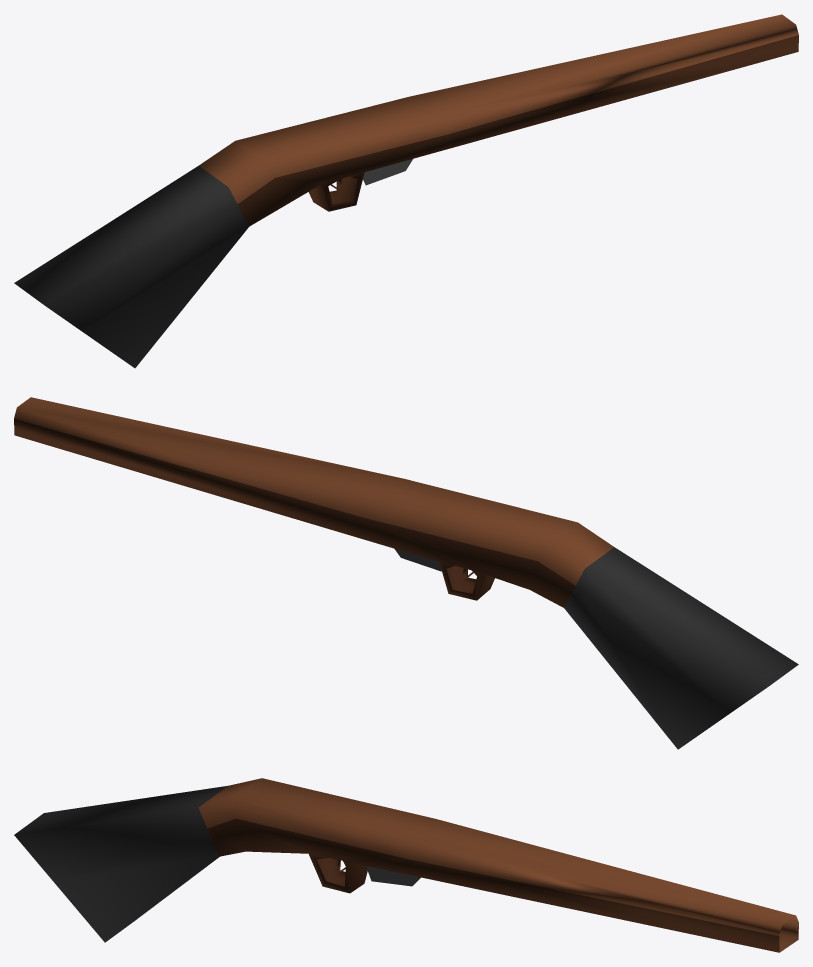
The model's file is Gun.fbx.
The picture shows the model from 3 angles, top to bottom: view 1: azimuth 30°, elevation 25°; view 2: azimuth 150°, elevation 25°; view 3: azimuth 330°, elevation 25°; orthographic projection.
Parts seen in each view (by area): view 1: Cube; view 2: Cube; view 3: Cube.
Boxes of the visible parts, x1,y1,x2,y2 form: Cube: (14,14,798,368); Cube: (14,397,798,749); Cube: (14,778,798,952).
Size of the model in its own units: 410 by 91.15 by 36.41.
